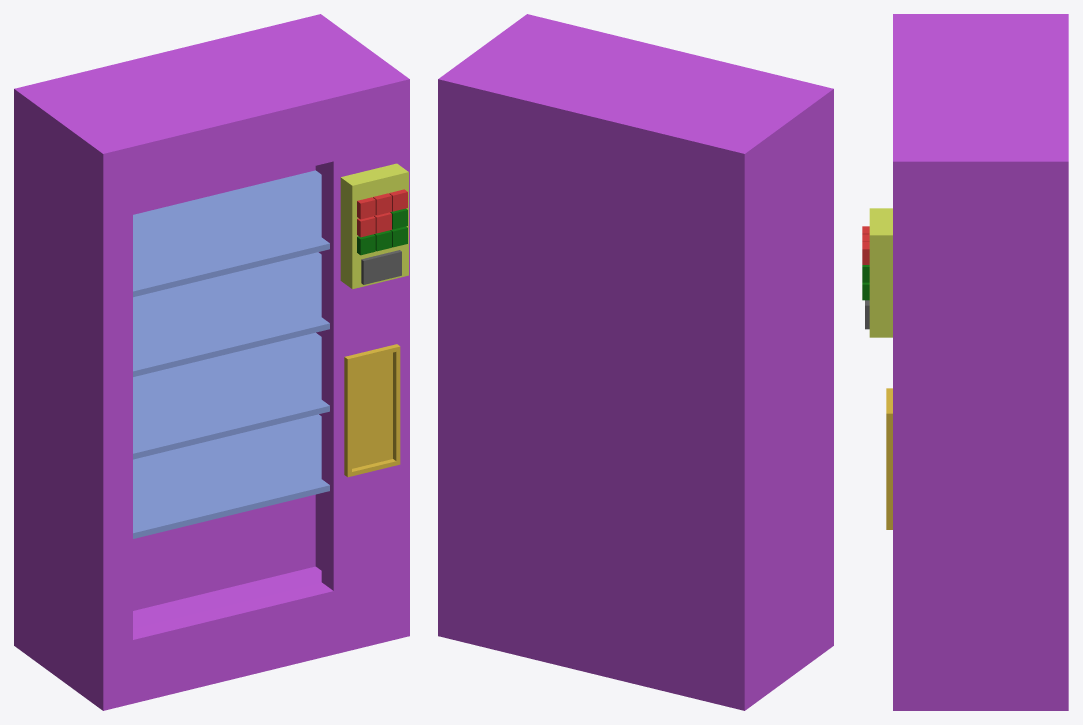
The model's file is refrigerator.fbx.
3 views of the same model, side by side, from view 1: azimuth 30°, elevation 25°; view 2: azimuth 150°, elevation 25°; view 3: azimuth 270°, elevation 25° (orthographic).
Visible parts, largest first — view 1: Cube, polka, yeloow, yellow, red, green, black; view 2: Cube; view 3: Cube, yellow, yeloow.
Boxes of the visible parts, x1,y1,x2,y2 form: Cube: [14, 14, 409, 710]; polka: [133, 170, 329, 538]; yeloow: [344, 344, 400, 477]; yellow: [340, 163, 408, 289]; red: [357, 189, 407, 237]; green: [357, 208, 407, 255]; black: [361, 250, 401, 284]; Cube: [438, 14, 833, 710]; Cube: [893, 14, 1068, 710]; yellow: [869, 208, 892, 337]; yeloow: [886, 388, 892, 529].
Bounding box in the file's own units: 119 × 206 × 70.16.
